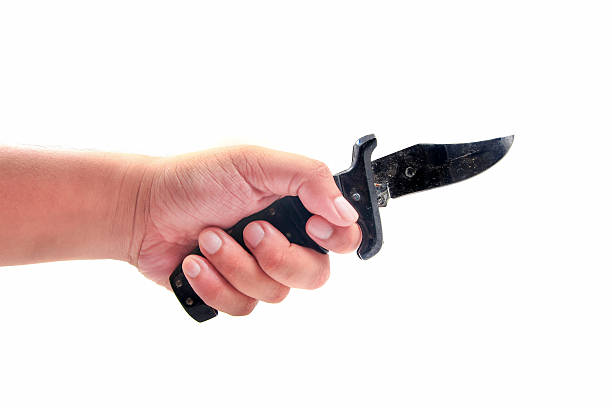knife: (166, 130, 516, 323)
